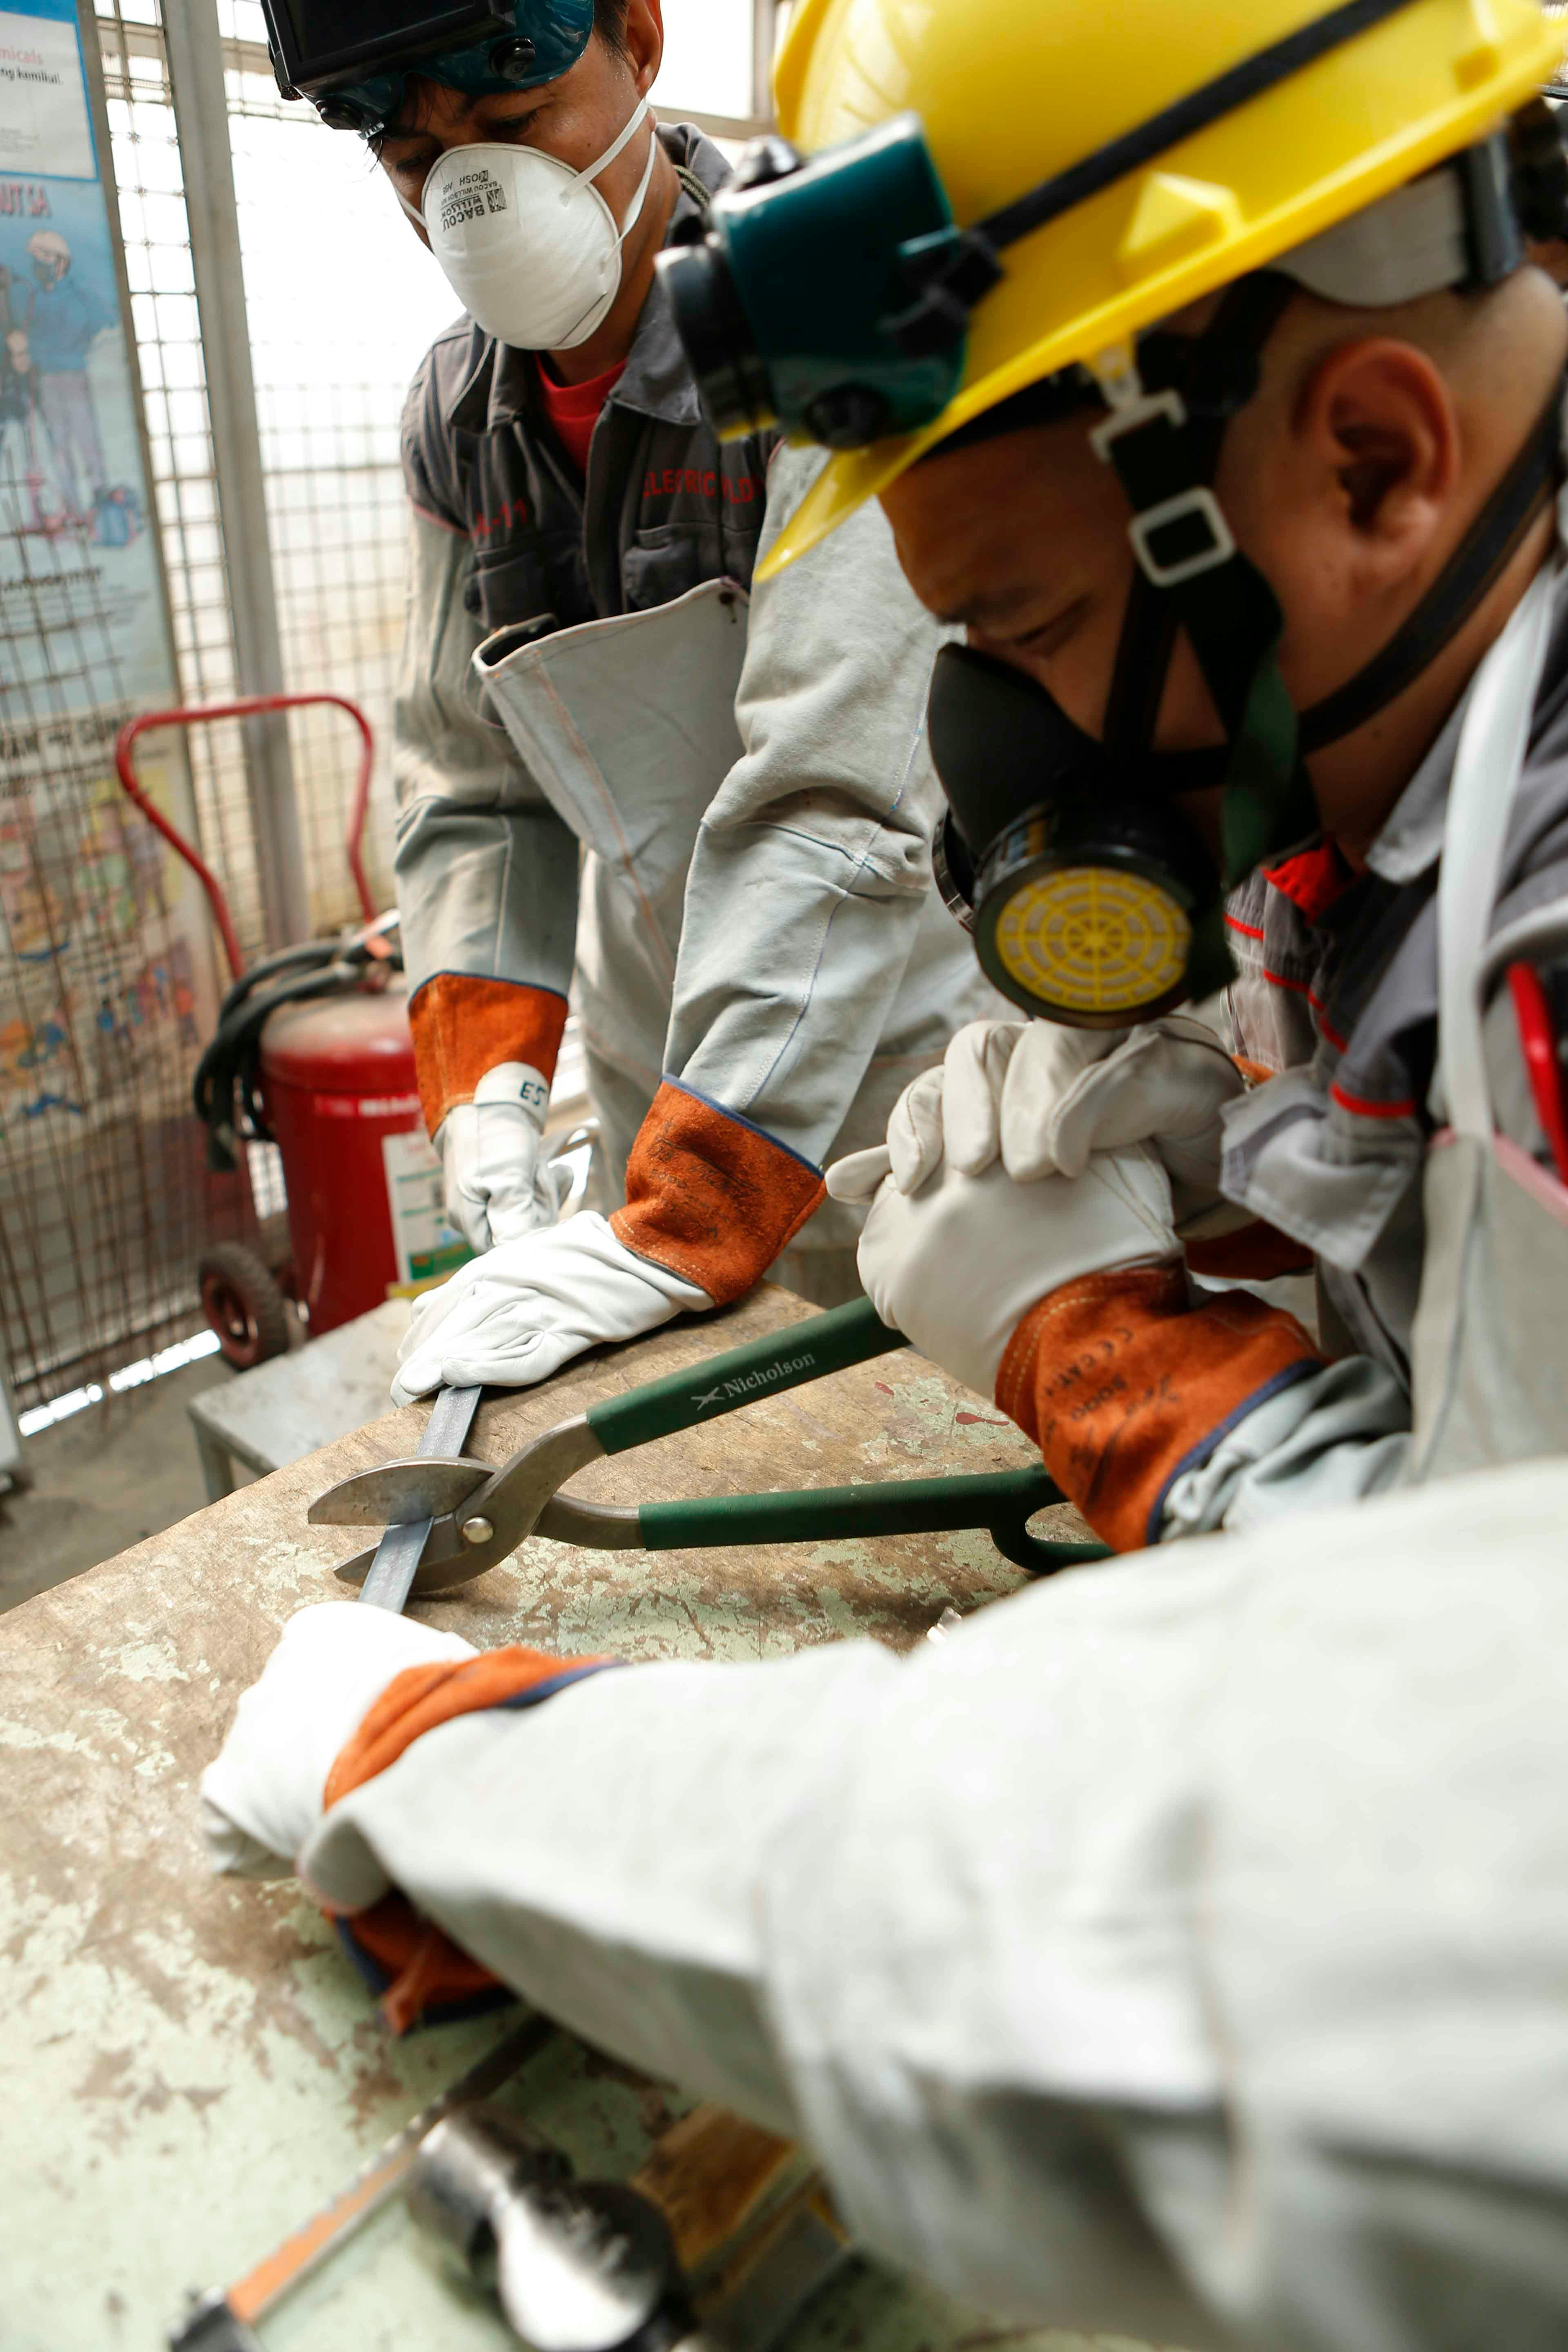extintor: (140, 884, 483, 1335)
